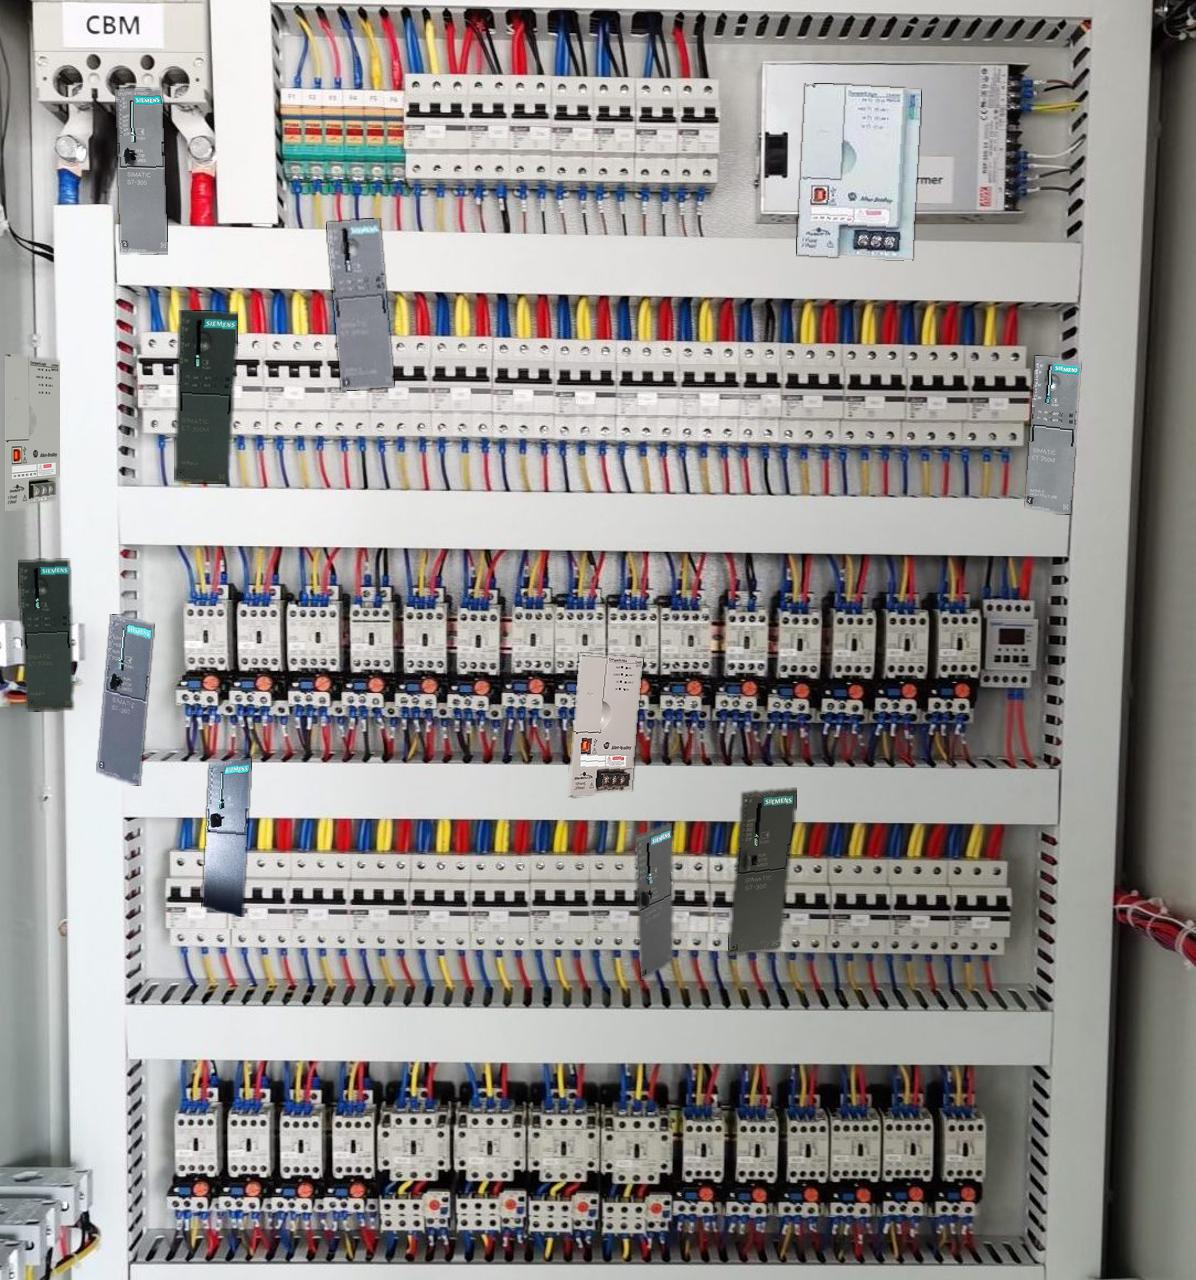AllenBradley: (797, 83, 919, 258), (569, 653, 642, 796), (4, 354, 58, 510)
Siemens: (728, 789, 796, 955), (98, 614, 153, 786), (116, 88, 167, 253), (202, 759, 250, 916), (634, 823, 672, 979)
